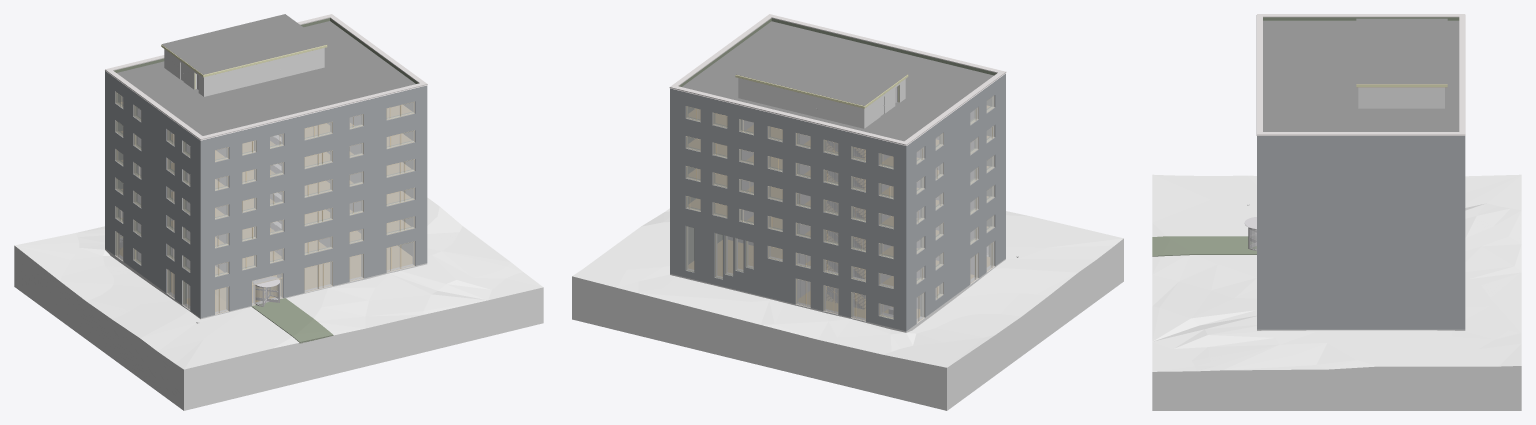
3 views of the same model, side by side, from view 1: azimuth 30°, elevation 25°; view 2: azimuth 150°, elevation 25°; view 3: azimuth 270°, elevation 25° (orthographic). The views are drawn at different scales.
Visible parts, largest first — view 1: 20FpTZCqJy2vhVJYtjuIce, 32ybGKDuykUGUD4jYsk8Ie, 3rMbhJVGF8OwG8cQZ1S72R, 3dMtr6ofFP_r4lxxKhDjtx, 2OZlAoNjc2kJuti7JBU1Dz, 31GoFlPlayZwrpzicZFjHM, 3Z2dx3yp2p0h1zd8qBrLsu, 1GUGhvBakY7jOi2BGD5Qmv, 3ctpXZK9k9n_dEy9Asp1f7, 1eou6h2MPUQ_8mModuxOLE, 2UtDOSQaQl4E2YqnE2UfB4, 0UYzApClyi16g1Kg4G_CkU (+16 smaller); view 2: 20FpTZCqJy2vhVJYtjuIce, 32ybGKDuykUGUD4jYsk8Ie, 3QipThjn2CLI6iTaD_53At, 0Nla6I89LXyQnRX9MUdA5X, 1NGtvcfxq37$wkFrdBOsEg, 13GXFeUOgKNsPM6USzE6uv, 1p$U1Hbv9vPYxtgE8hYq50, 1GUGhvBakY7jOi2BGD5Qmv, 0$N1zEdv8l58ubpGRcOAve, 1eou6h2MPUQ_8mModuxOLE, 2UtDOSQaQl4E2YqnE2UfB4, 0UYzApClyi16g1Kg4G_CkU (+12 smaller); view 3: 20FpTZCqJy2vhVJYtjuIce, 32ybGKDuykUGUD4jYsk8Ie, 2oxTdAOFu6tU1Ww$gO3M5H, 3aJPXfznSpSllxBuKdSQgc, 3pV62$rsXEB4maDIG5626S, 3KGWTAaBtbLUrXw8Kggjup, 0lF1JNXCZRzvAhRKaOzneb, 0_KsYzeGoQsH5hvVwI3pxF, 1GUGhvBakY7jOi2BGD5Qmv, 28kvLrR_NQM_ChD9afdeln, 358ewIswf3A97YK6GX7ET5, 1AZjLPECP64xP7ZuESueMo (+4 smaller).
Boxes of the visible parts, x1=… form: 20FpTZCqJy2vhVJYtjuIce: x1=14, y1=197, x2=543, y2=410; 32ybGKDuykUGUD4jYsk8Ie: x1=117, y1=21, x2=415, y2=135; 3rMbhJVGF8OwG8cQZ1S72R: x1=200, y1=85, x2=427, y2=173; 3dMtr6ofFP_r4lxxKhDjtx: x1=200, y1=147, x2=427, y2=231; 2OZlAoNjc2kJuti7JBU1Dz: x1=200, y1=176, x2=427, y2=260; 31GoFlPlayZwrpzicZFjHM: x1=200, y1=205, x2=427, y2=289; 3Z2dx3yp2p0h1zd8qBrLsu: x1=200, y1=118, x2=427, y2=202; 1GUGhvBakY7jOi2BGD5Qmv: x1=161, y1=14, x2=326, y2=74; 3ctpXZK9k9n_dEy9Asp1f7: x1=200, y1=234, x2=427, y2=318; 1eou6h2MPUQ_8mModuxOLE: x1=105, y1=71, x2=200, y2=172; 2UtDOSQaQl4E2YqnE2UfB4: x1=105, y1=162, x2=200, y2=259; 0UYzApClyi16g1Kg4G_CkU: x1=105, y1=191, x2=200, y2=288; 20FpTZCqJy2vhVJYtjuIce: x1=572, y1=208, x2=1123, y2=410; 32ybGKDuykUGUD4jYsk8Ie: x1=682, y1=21, x2=993, y2=141; 3QipThjn2CLI6iTaD_53At: x1=670, y1=88, x2=906, y2=180; 0Nla6I89LXyQnRX9MUdA5X: x1=670, y1=153, x2=906, y2=240; 1NGtvcfxq37$wkFrdBOsEg: x1=670, y1=183, x2=906, y2=270; 13GXFeUOgKNsPM6USzE6uv: x1=670, y1=123, x2=906, y2=210; 1p$U1Hbv9vPYxtgE8hYq50: x1=670, y1=213, x2=906, y2=300; 1GUGhvBakY7jOi2BGD5Qmv: x1=736, y1=42, x2=907, y2=105; 0$N1zEdv8l58ubpGRcOAve: x1=670, y1=244, x2=906, y2=331; 1eou6h2MPUQ_8mModuxOLE: x1=907, y1=74, x2=1005, y2=179; 2UtDOSQaQl4E2YqnE2UfB4: x1=907, y1=168, x2=1005, y2=270; 0UYzApClyi16g1Kg4G_CkU: x1=907, y1=198, x2=1005, y2=300; 20FpTZCqJy2vhVJYtjuIce: x1=1152, y1=174, x2=1521, y2=410; 32ybGKDuykUGUD4jYsk8Ie: x1=1263, y1=20, x2=1459, y2=131; 2oxTdAOFu6tU1Ww$gO3M5H: x1=1258, y1=136, x2=1464, y2=171; 3aJPXfznSpSllxBuKdSQgc: x1=1258, y1=171, x2=1465, y2=203; 3pV62$rsXEB4maDIG5626S: x1=1258, y1=298, x2=1465, y2=329; 3KGWTAaBtbLUrXw8Kggjup: x1=1258, y1=266, x2=1465, y2=297; 0lF1JNXCZRzvAhRKaOzneb: x1=1258, y1=203, x2=1465, y2=234; 0_KsYzeGoQsH5hvVwI3pxF: x1=1258, y1=235, x2=1465, y2=266; 1GUGhvBakY7jOi2BGD5Qmv: x1=1356, y1=18, x2=1447, y2=84; 28kvLrR_NQM_ChD9afdeln: x1=1358, y1=87, x2=1444, y2=108; 358ewIswf3A97YK6GX7ET5: x1=1256, y1=14, x2=1262, y2=135; 1AZjLPECP64xP7ZuESueMo: x1=1459, y1=14, x2=1465, y2=135.
Size of the model in its own units: 45.46 by 28.98 by 37.13.
